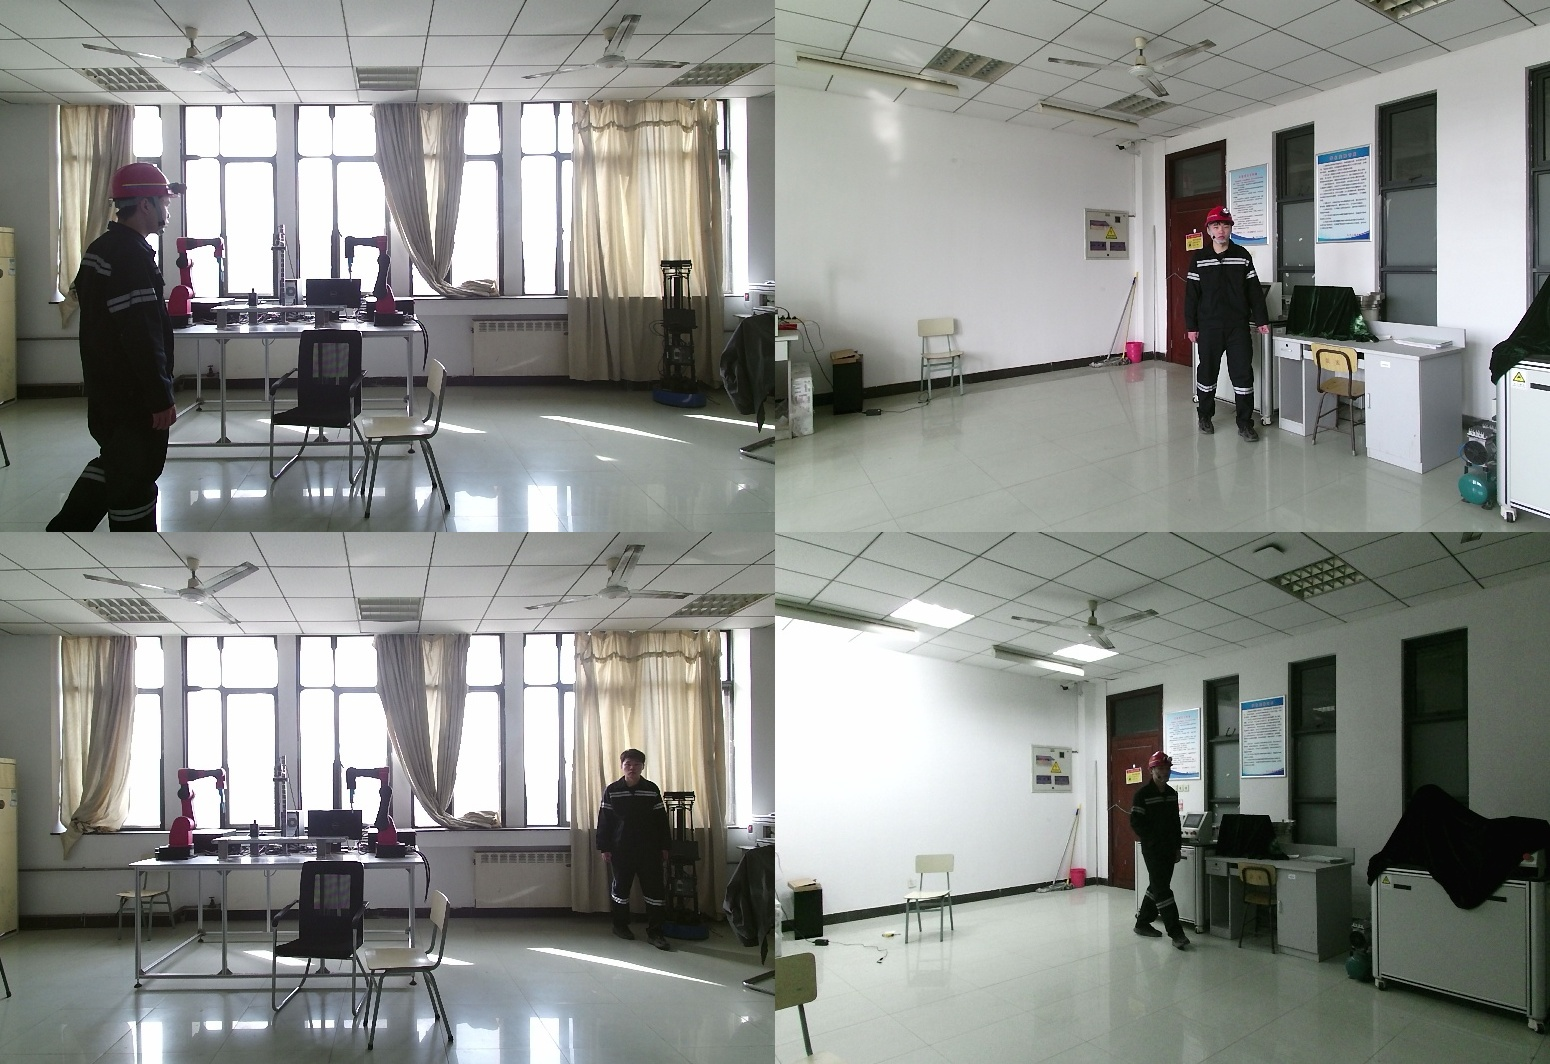person: (46, 163, 190, 532), (1187, 207, 1275, 440), (596, 750, 683, 946), (1121, 751, 1189, 948)
